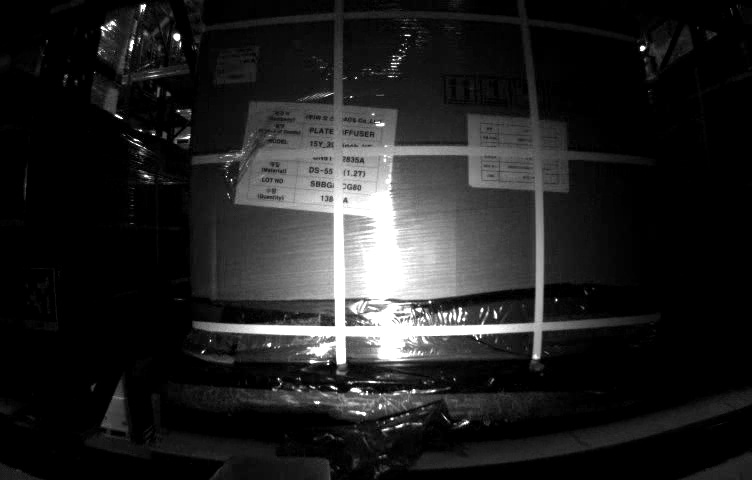True Barcode: (217, 47, 259, 82)
